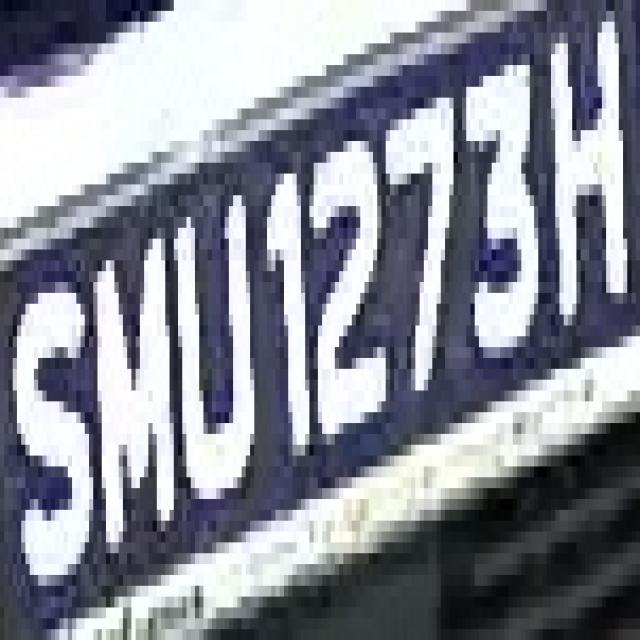1: (262, 108, 314, 520)
2: (292, 120, 390, 478)
3: (453, 43, 542, 369)
7: (386, 87, 462, 434)
H: (542, 0, 628, 391)
M: (89, 206, 174, 575)
S: (12, 217, 102, 618)
U: (170, 185, 258, 542)
